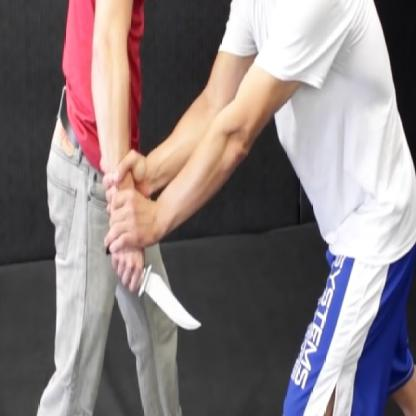knife: (100, 228, 209, 343)
